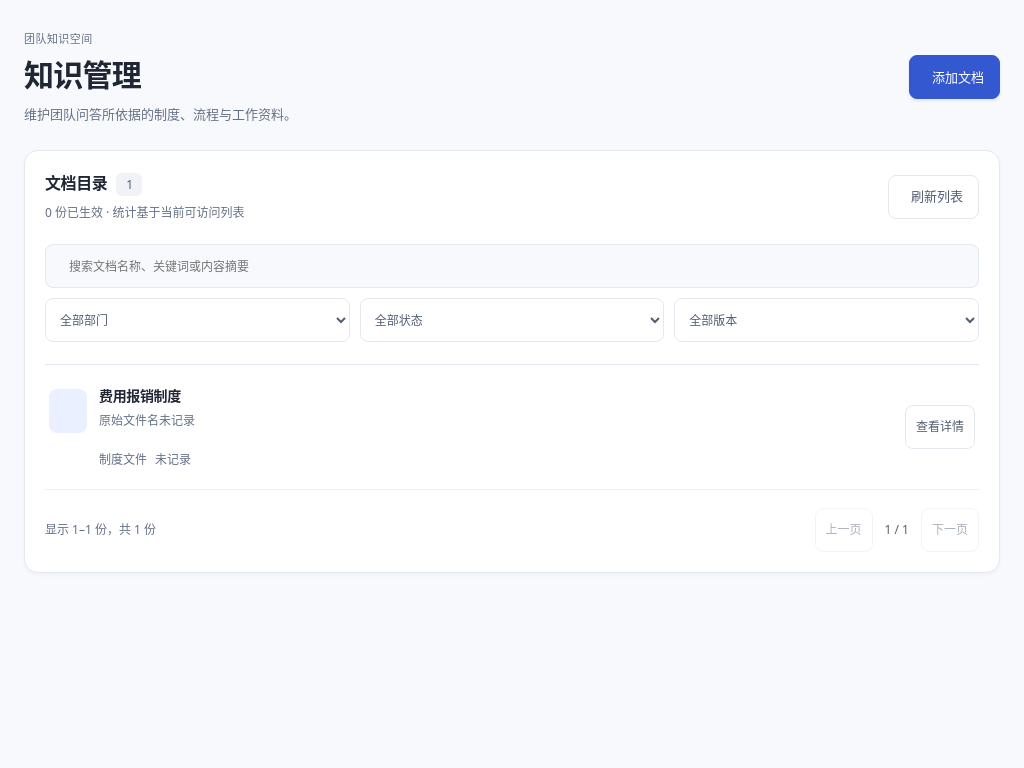
Test case: KnowledgeView › loads preview content from the detail endpoint when list records omit content
Click the button with class "document-details-button" at (940, 427), box [905,405,975,449]
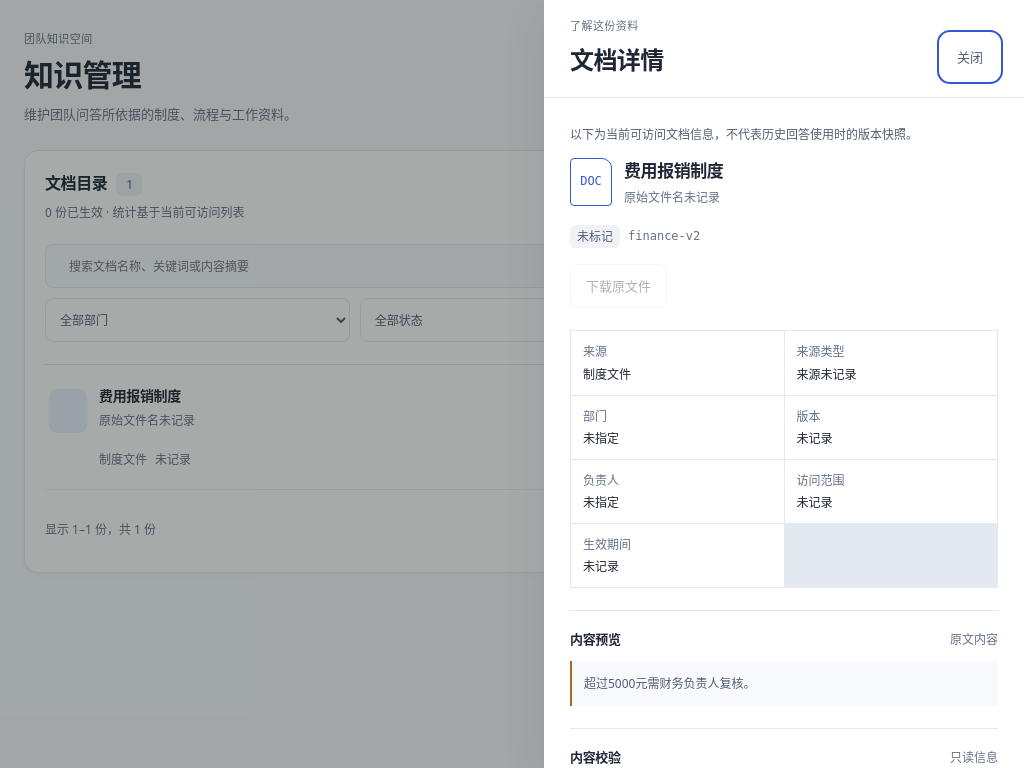
Now the element with class "detail-preview" shows "超过5000元需财务负责人复核。", box [584,675,756,692]
